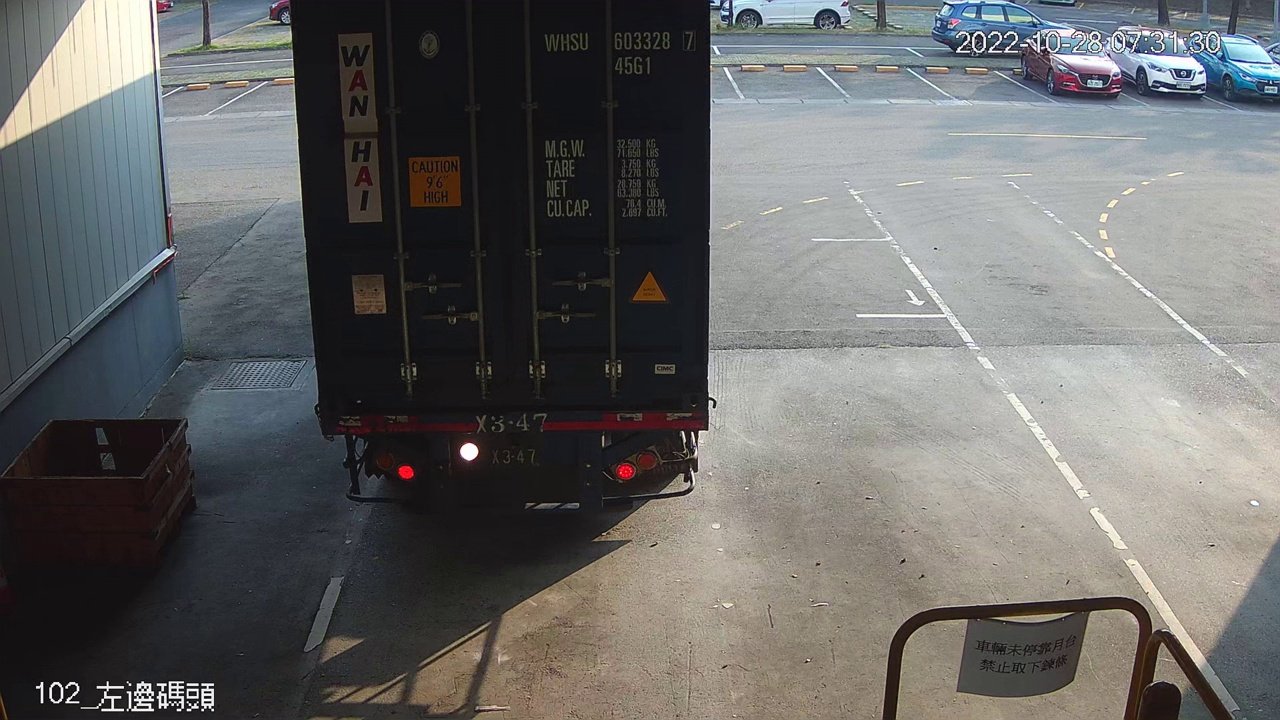container: (538, 24, 702, 82)
